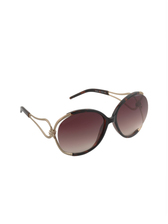glasses: (18, 86, 153, 154)
